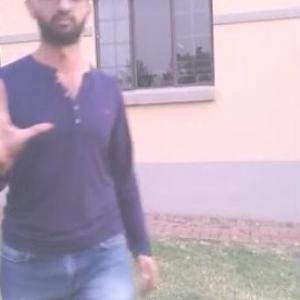follow_hand: (0, 74, 58, 175)
